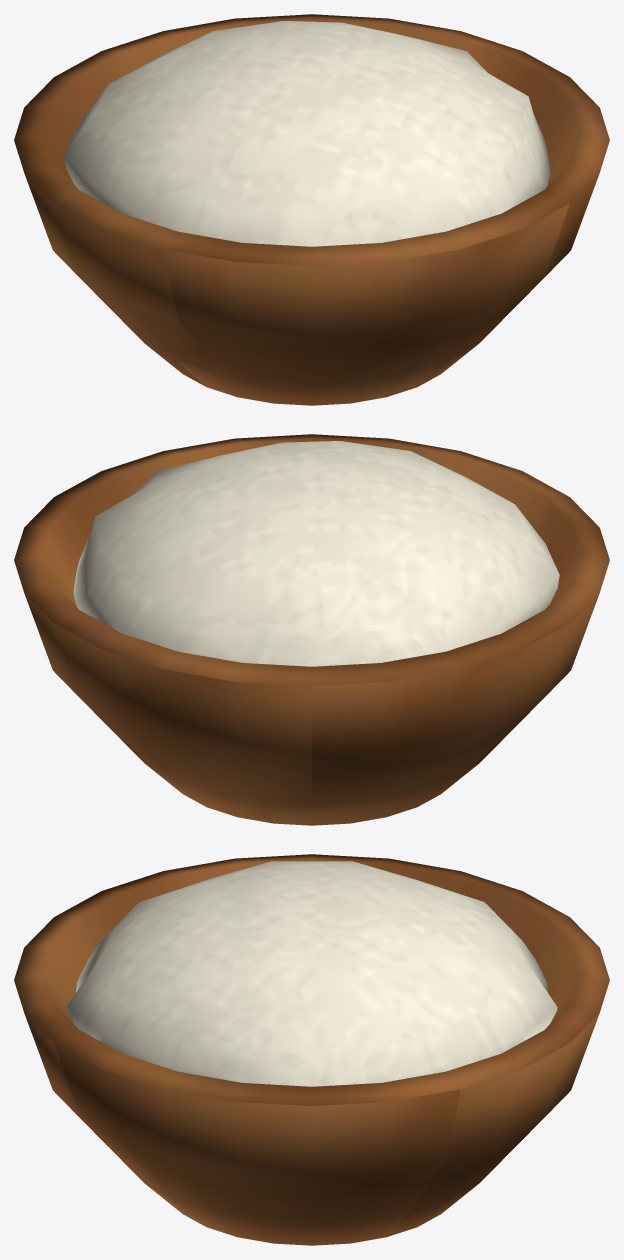
The model's file is wooden-rice-bowl.glb.
The picture shows the model from 3 angles, top to bottom: view 1: azimuth 30°, elevation 25°; view 2: azimuth 150°, elevation 25°; view 3: azimuth 270°, elevation 25°; orthographic projection.
Visible parts, largest first — view 1: wooden_bowl, bowl_rice; view 2: wooden_bowl, bowl_rice; view 3: wooden_bowl, bowl_rice.
Boxes of the visible parts, box(x1,y1,x2,y2) form: wooden_bowl: box(14, 14, 609, 405); bowl_rice: box(64, 21, 550, 246); wooden_bowl: box(14, 434, 609, 825); bowl_rice: box(73, 441, 559, 666); wooden_bowl: box(14, 854, 609, 1245); bowl_rice: box(66, 861, 557, 1086).
Size of the model in its own units: 0.8 by 0.4215 by 0.8.
Materials: 2 (2 with a texture image).
